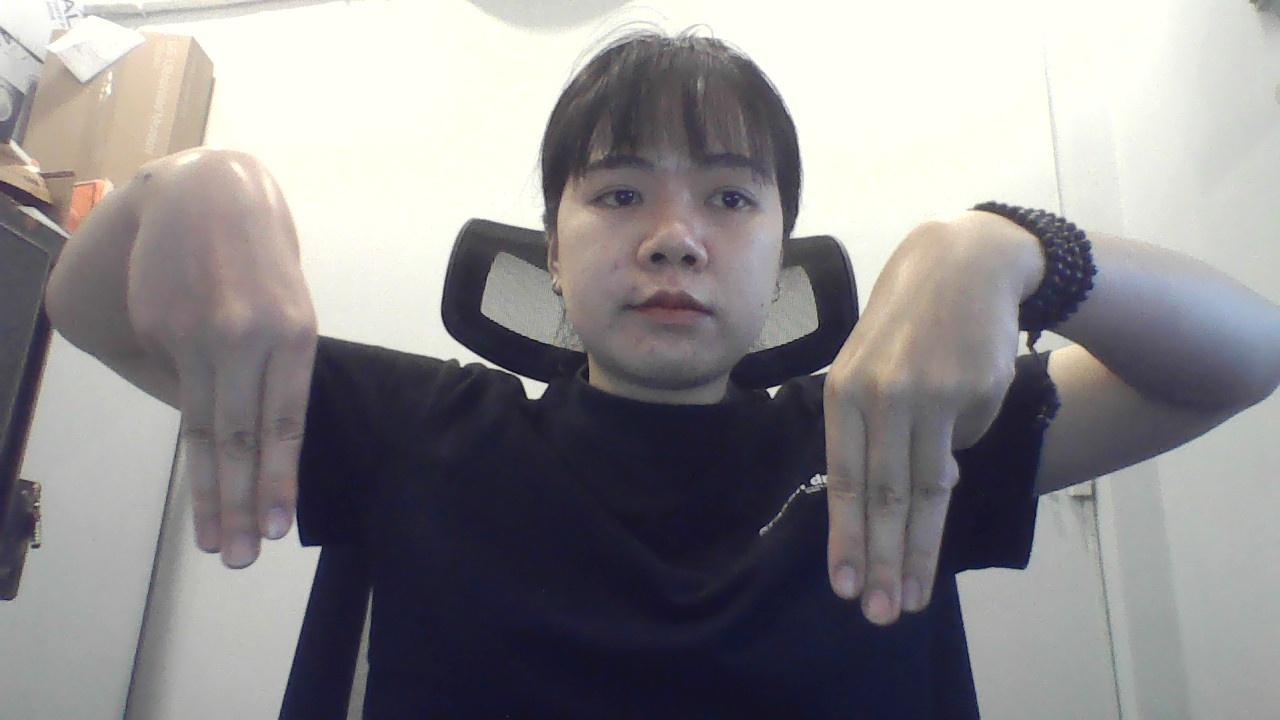M: (819, 200, 1035, 652), (120, 150, 328, 580)
